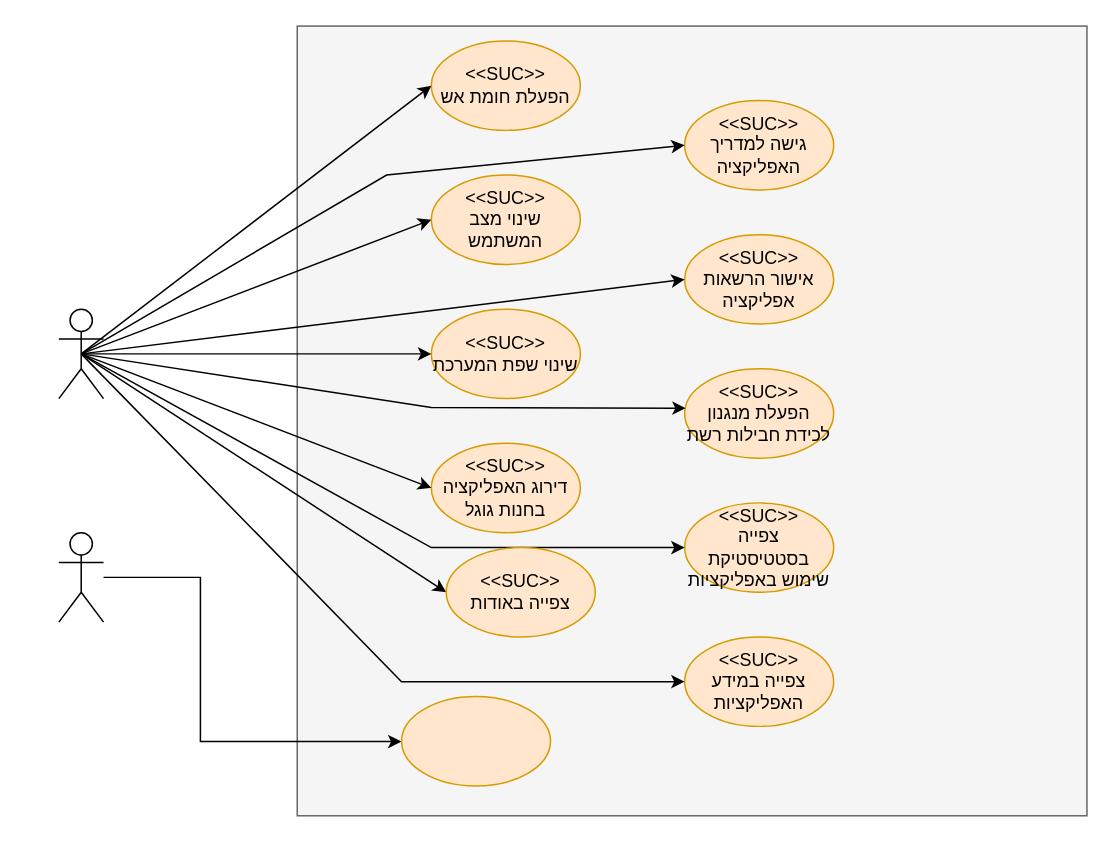
This 1113x842 diagram has some shape labels left out. The box of each missing label's shape, as (x1, y1, x2, y2) in pixels:
<<SUC>> דיוול על ניתוני המשתמשים לשרת: (400, 695, 551, 786)
מנהל המערכת: (57, 531, 104, 622)
משתמש: (57, 308, 104, 399)
